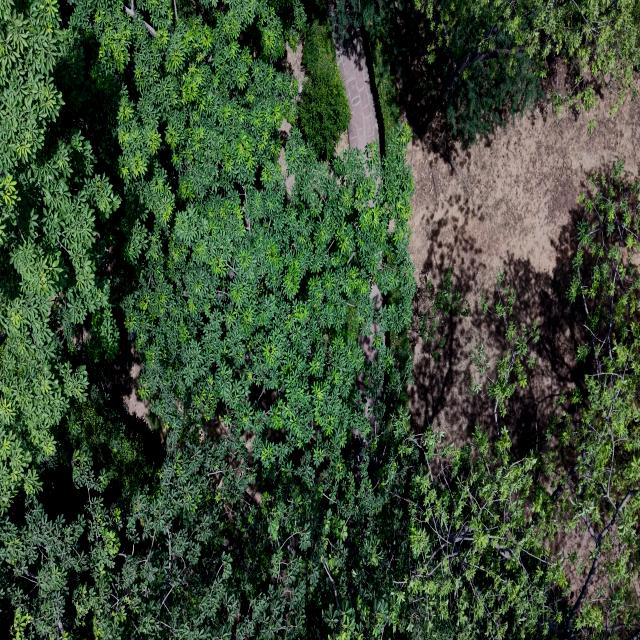DRY_AREA: (407, 94, 639, 455), (407, 99, 639, 453), (407, 99, 639, 449), (407, 99, 639, 447), (407, 102, 639, 287), (102, 337, 164, 463), (104, 338, 166, 464), (332, 27, 378, 154), (332, 28, 378, 154), (332, 27, 378, 153), (332, 27, 378, 152), (333, 27, 378, 151), (334, 28, 378, 152), (334, 28, 377, 150), (107, 340, 152, 428), (106, 340, 148, 425), (355, 372, 379, 435), (278, 120, 294, 194), (282, 43, 305, 93), (278, 120, 293, 193), (278, 144, 294, 194), (334, 131, 348, 155)
VEGETATION_TREE: (0, 0, 639, 639), (0, 3, 413, 637), (385, 162, 639, 639), (505, 161, 639, 639), (0, 2, 119, 512), (548, 162, 639, 637), (340, 0, 639, 143), (402, 427, 564, 639), (413, 0, 639, 138), (61, 386, 155, 490), (442, 54, 543, 143), (297, 8, 349, 158), (416, 268, 469, 360)
